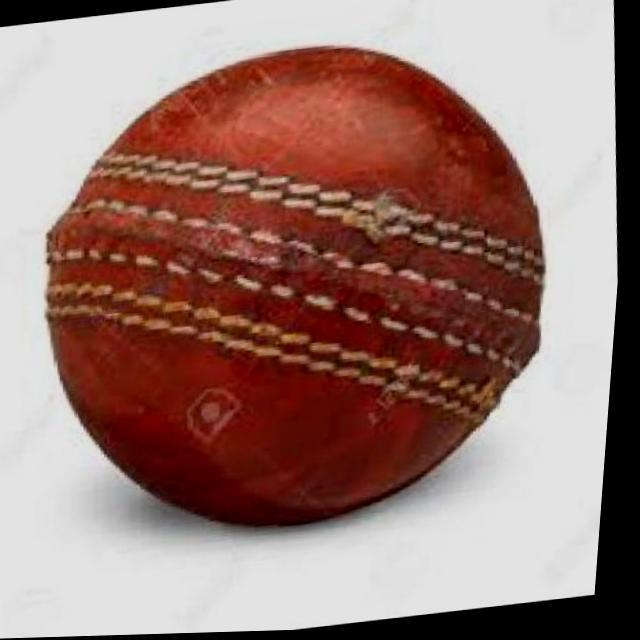-: (45, 38, 568, 545)
